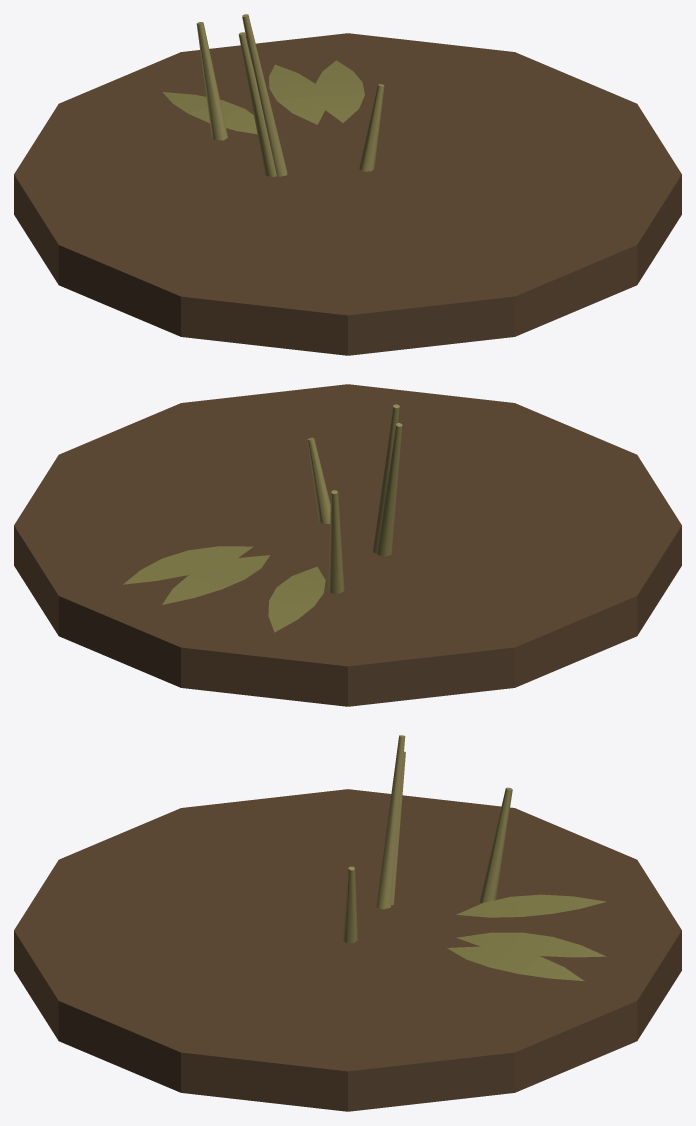
Rendered from eisenhut-geerntet.glb.
3 views of the same model, one above another, from view 1: azimuth 30°, elevation 25°; view 2: azimuth 150°, elevation 25°; view 3: azimuth 270°, elevation 25° (orthographic).
Parts seen in each view (by area): view 1: eisenhut; view 2: eisenhut; view 3: eisenhut.
Part boxes in pixels (box(x1,y1,x2,y2)): eisenhut: box(14, 14, 681, 355); eisenhut: box(14, 384, 681, 706); eisenhut: box(14, 735, 681, 1111).
Bounding box in the file's own units: 0.3 × 0.0982 × 0.3.
